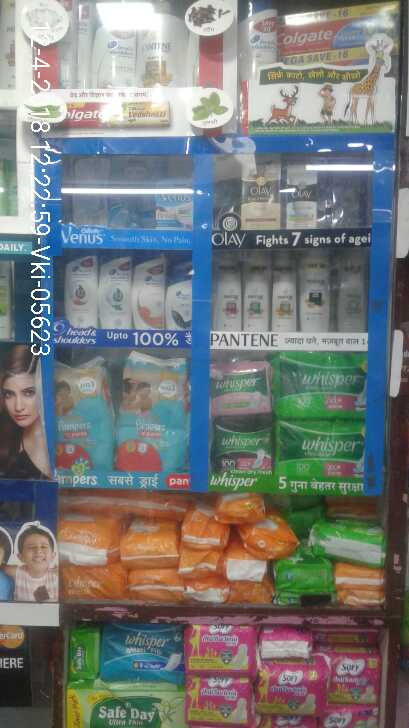venus: (73, 157, 110, 226), (116, 153, 149, 225), (158, 176, 194, 221)
